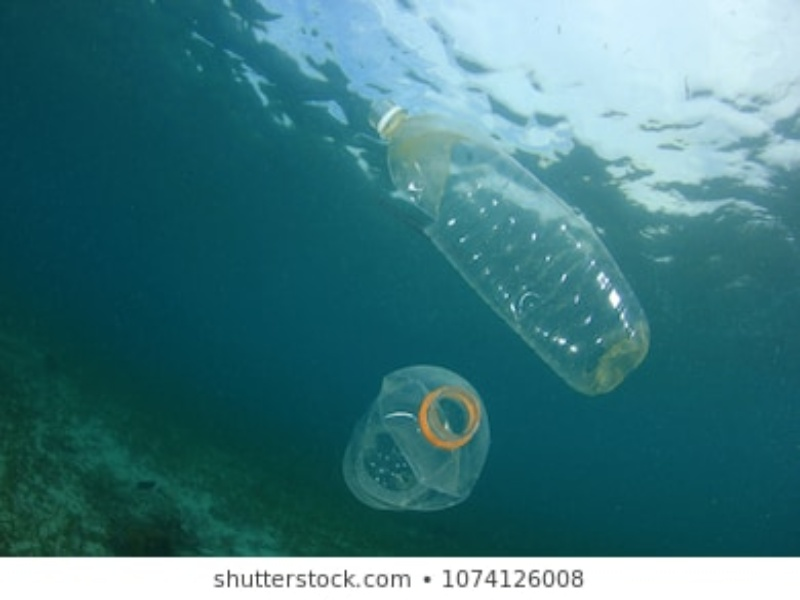plastic-bottle: (362, 97, 654, 392), (339, 364, 492, 514)
